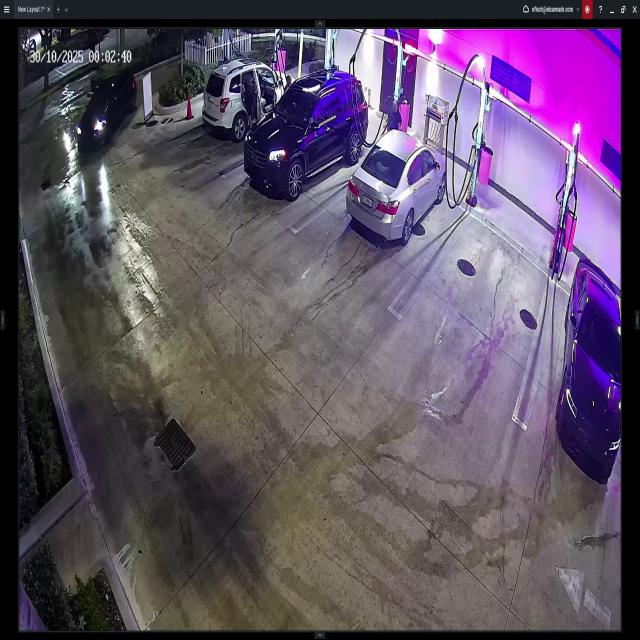Car: (245, 68, 368, 199), (556, 250, 621, 470), (345, 129, 446, 244), (202, 58, 300, 136), (76, 71, 137, 152)
